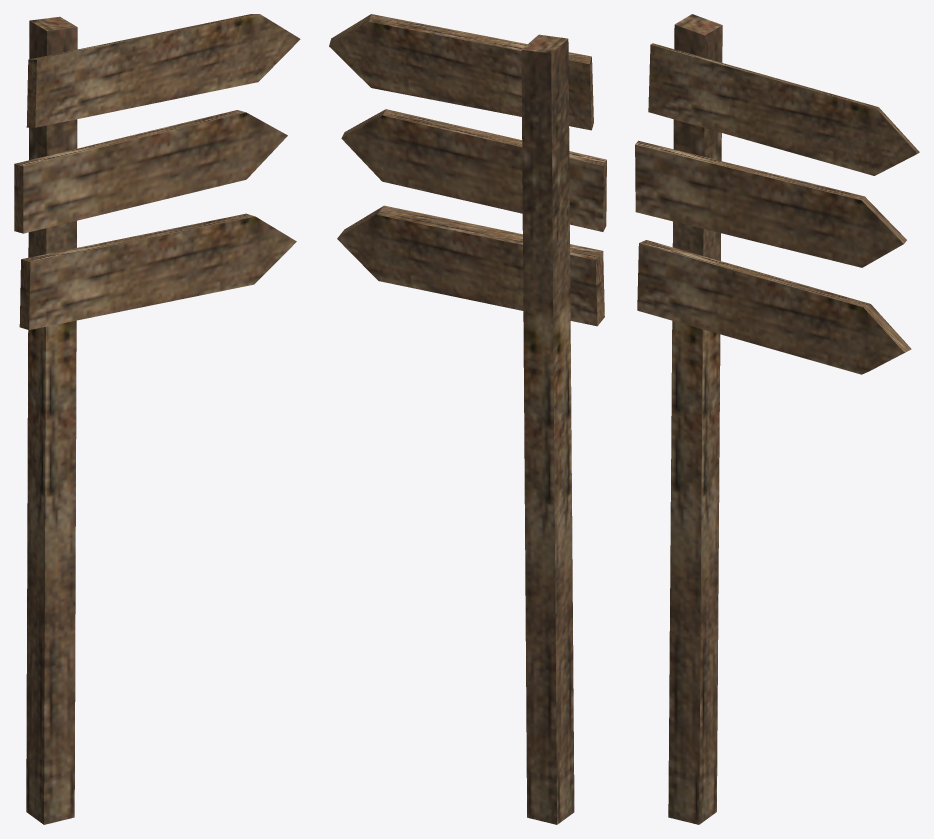
Rendered from Sign.gltf.
3 views of the same model, side by side, from view 1: azimuth 30°, elevation 25°; view 2: azimuth 150°, elevation 25°; view 3: azimuth 330°, elevation 25° (orthographic). The views are drawn at different scales.
Visible parts, largest first — view 1: Cube, Cube.004, Cube.002, Cube.003; view 2: Cube, Cube.004, Cube.003, Cube.002; view 3: Cube, Cube.004, Cube.002, Cube.003.
Boxes of the visible parts, bbox=[...] form: Cube: bbox=[26, 16, 77, 824]; Cube.004: bbox=[19, 213, 296, 329]; Cube.002: bbox=[14, 110, 287, 233]; Cube.003: bbox=[26, 14, 300, 127]; Cube: bbox=[521, 34, 574, 824]; Cube.004: bbox=[337, 205, 604, 326]; Cube.003: bbox=[329, 14, 593, 130]; Cube.002: bbox=[341, 109, 606, 231]; Cube: bbox=[668, 14, 722, 824]; Cube.004: bbox=[637, 240, 911, 374]; Cube.002: bbox=[635, 140, 906, 267]; Cube.003: bbox=[648, 43, 919, 175].
Size of the model in its own units: 1.94 by 5.18 by 0.3319.
